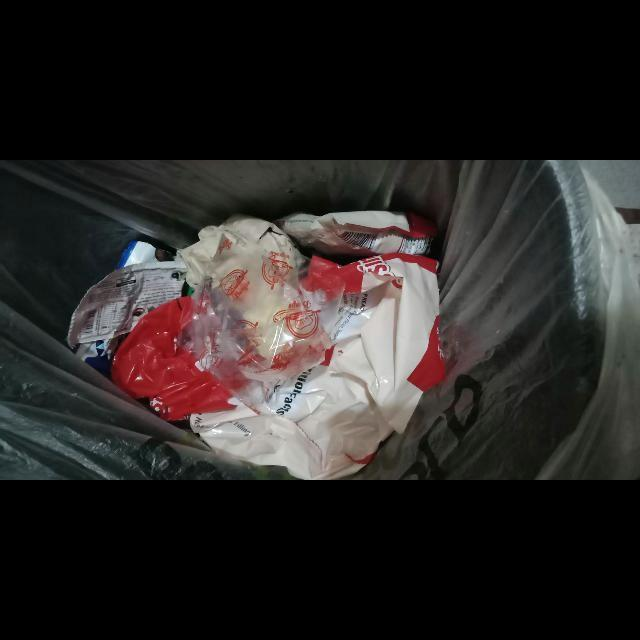food_wrapper: (191, 231, 342, 382), (68, 261, 187, 346), (277, 211, 437, 257)
paper: (179, 213, 303, 288)
plastic_bag: (188, 253, 445, 480)
